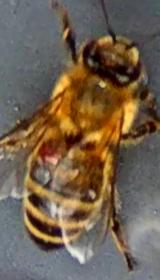varroa_mite: (22, 132, 73, 171)
